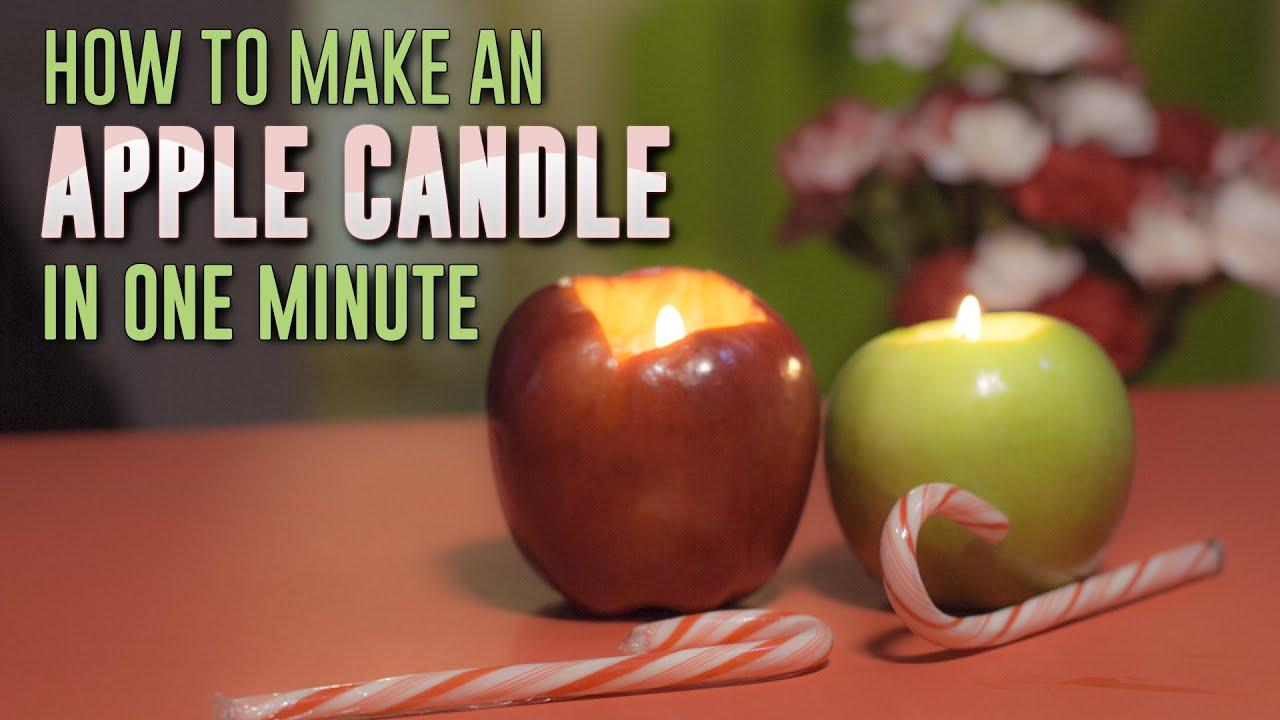apple: (484, 264, 821, 617), (822, 294, 1136, 612)
